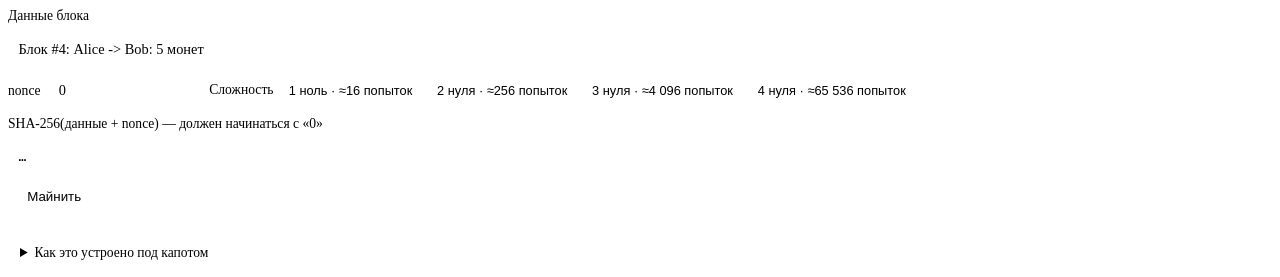
Test: stop button cancels mining
Replace the text in the field labelled "Данные блока" with "test": (640, 49) [8,34,1272,65]
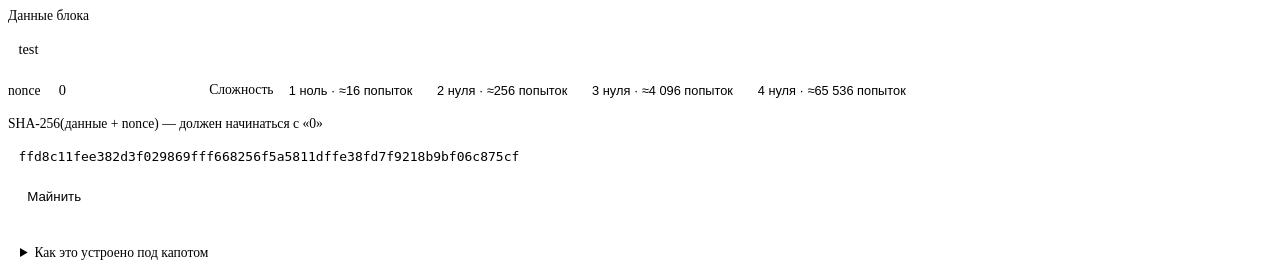
Result: the text "ff" is shown at [18,149,519,164]
Click the button "4 нуля · ≈65 536 попыток": (832, 90) [748,78,915,103]
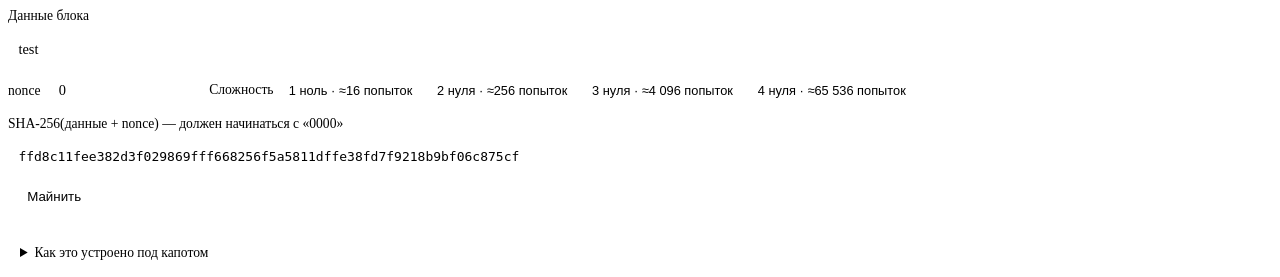
Click the button "Майнить": (54, 196) [8,182,100,211]
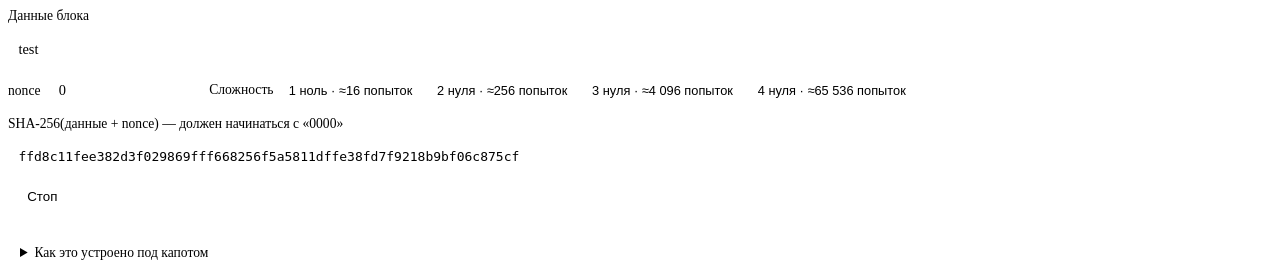
Result: the button "Стоп" is shown
Click the button "Стоп": (42, 196) [8,182,77,211]
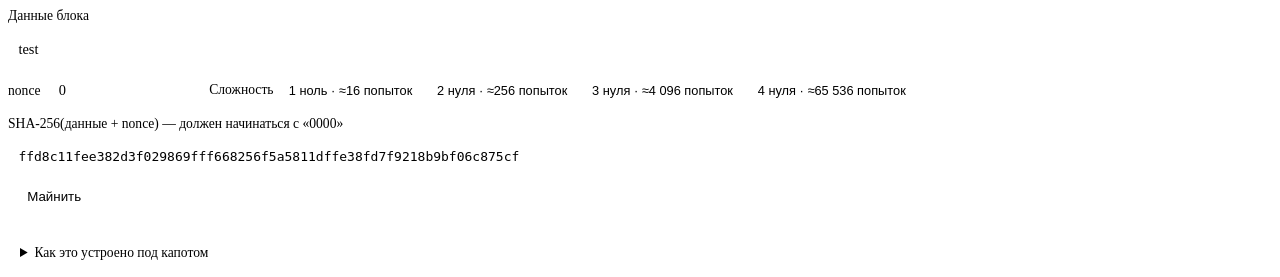
Result: the button "Майнить" is shown at [8,182,100,211]
